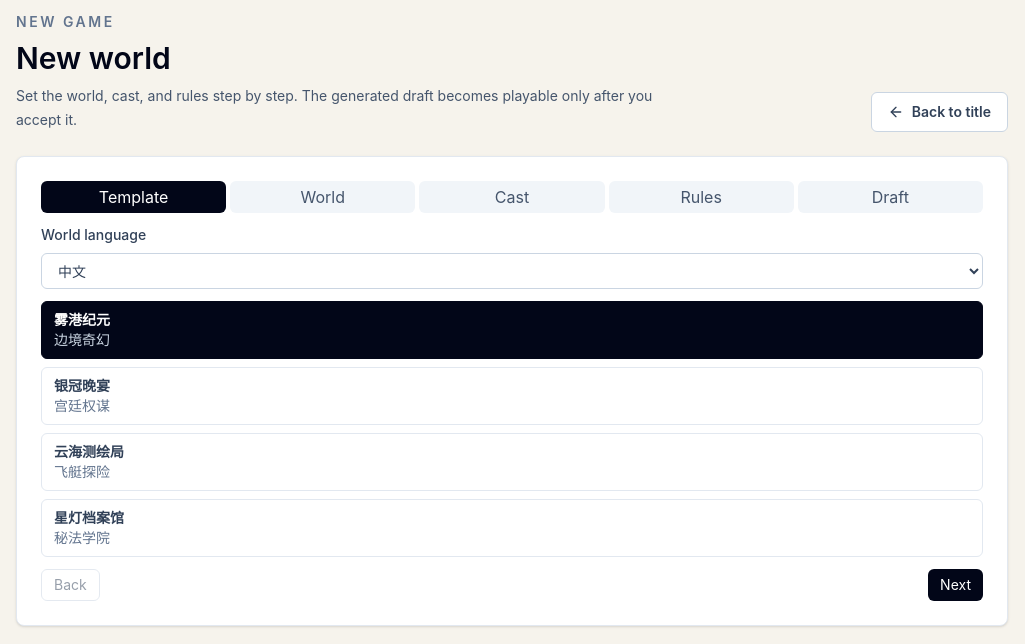
Test: WorldPage › prefers fetched generation job updates over the initial queued mutation result
Click the button "Draft". click: click(890, 197)
box: x1=798 y1=181 x2=983 y2=213
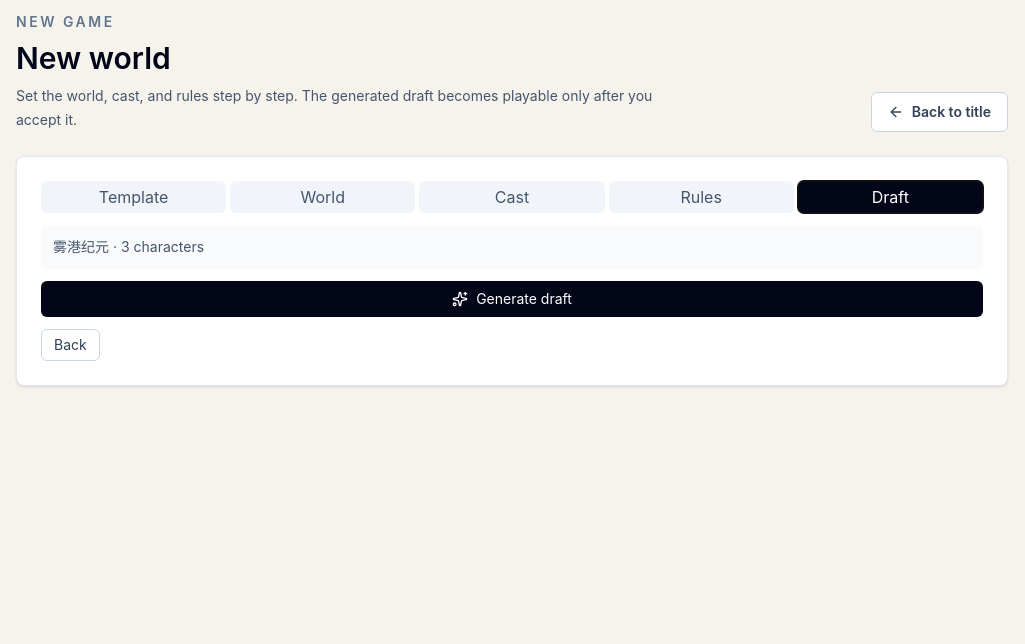
Click the button "Generate draft". click: click(512, 299)
box: x1=41 y1=281 x2=983 y2=317
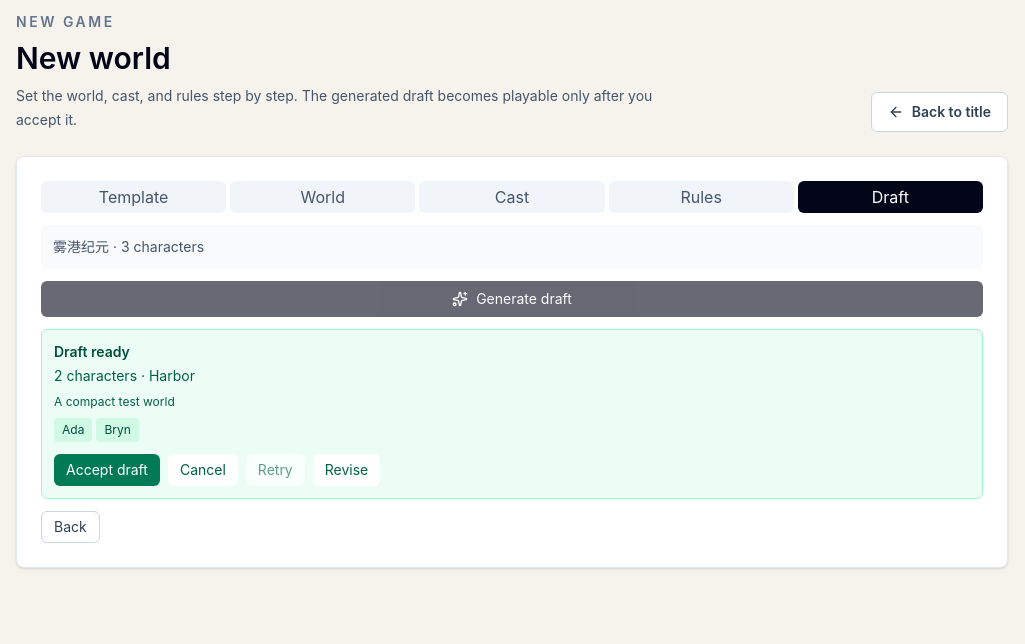
Check: the text "Draft ready" is shown, box x1=54 y1=343 x2=130 y2=360
Check: the button "Generate draft" is disabled, box x1=41 y1=281 x2=983 y2=317
